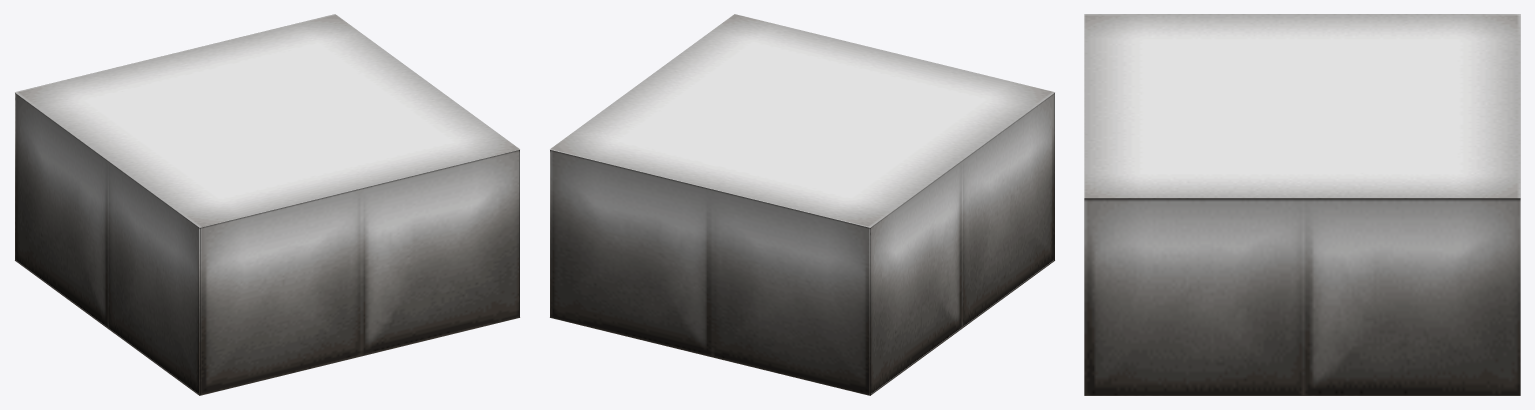
Rendered from metal_128.obj.
The picture shows the model from 3 angles, left to right: view 1: azimuth 30°, elevation 25°; view 2: azimuth 150°, elevation 25°; view 3: azimuth 270°, elevation 25°; orthographic projection. The views are drawn at different scales.
Visible parts, largest first — view 1: 128x128_metal_(2).mdl/128x128_metal_(2).smd; view 2: 128x128_metal_(2).mdl/128x128_metal_(2).smd; view 3: 128x128_metal_(2).mdl/128x128_metal_(2).smd.
Boxes of the visible parts, bbox=[...] form: 128x128_metal_(2).mdl/128x128_metal_(2).smd: bbox=[15, 14, 519, 395]; 128x128_metal_(2).mdl/128x128_metal_(2).smd: bbox=[550, 14, 1054, 395]; 128x128_metal_(2).mdl/128x128_metal_(2).smd: bbox=[1084, 14, 1520, 395].
Size of the model in its own units: 2 by 1 by 2.
